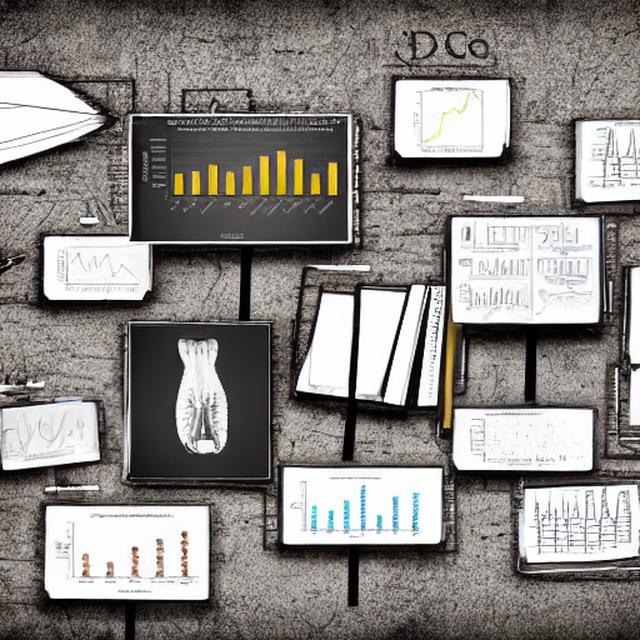Graph: (141, 118, 348, 241), (49, 511, 201, 596), (286, 472, 407, 543), (402, 82, 499, 155), (468, 412, 558, 468), (55, 243, 141, 298), (457, 275, 522, 320), (538, 280, 594, 312)
